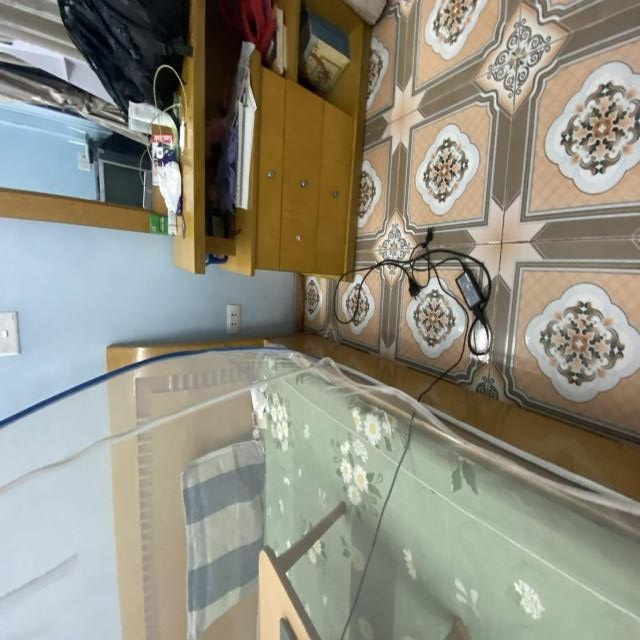outlet: (226, 304, 241, 334)
